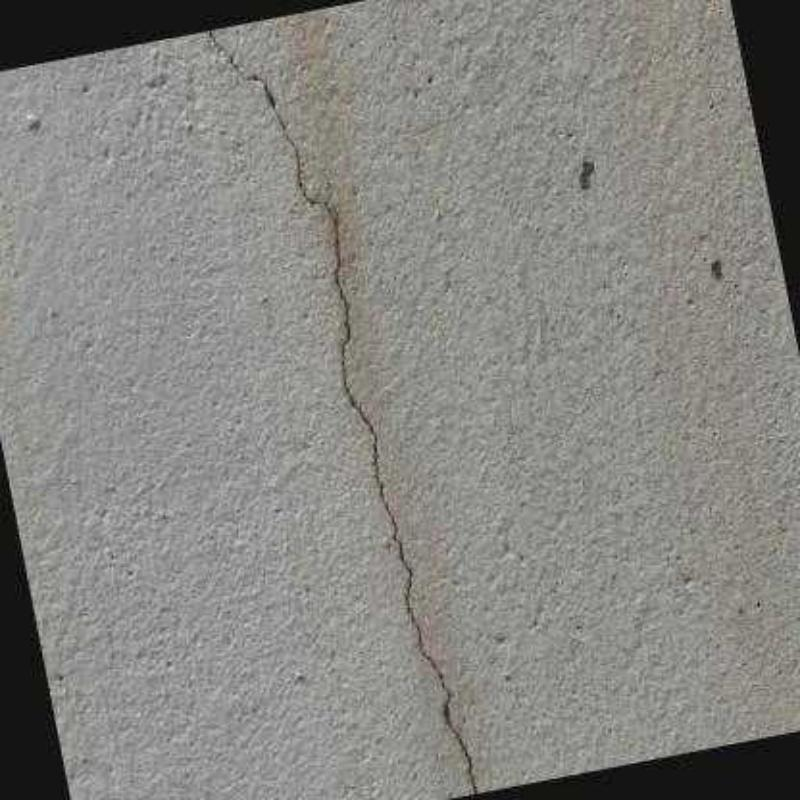crack: (210, 28, 485, 793)
